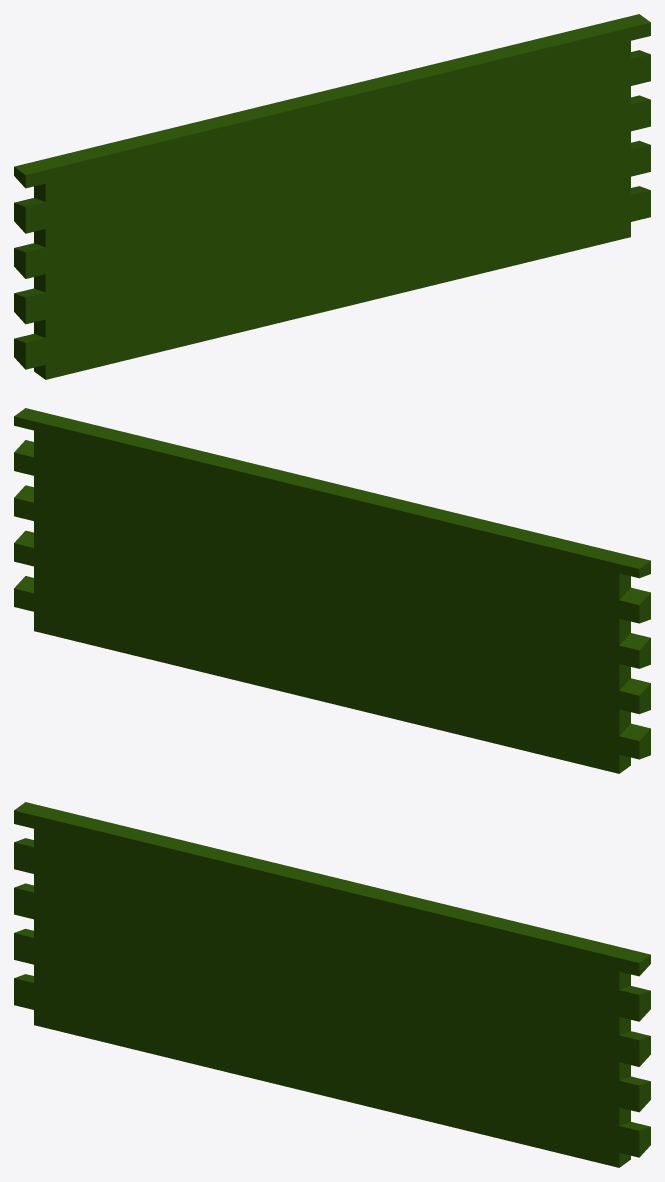
Rendered from original-29.obj.
3 renders of one model, top to bottom at view 1: azimuth 30°, elevation 25°; view 2: azimuth 150°, elevation 25°; view 3: azimuth 330°, elevation 25°, orthographic.
Parts seen in each view (by area): view 1: Façadecomplet_2_1/Façadecomplet_2/mesh31/mesh31-geometry#mesh31-; view 2: Façadecomplet_2_1/Façadecomplet_2/mesh31/mesh31-geometry#mesh31-; view 3: Façadecomplet_2_1/Façadecomplet_2/mesh31/mesh31-geometry#mesh31-.
Boxes of the visible parts, x1=… form: Façadecomplet_2_1/Façadecomplet_2/mesh31/mesh31-geometry#mesh31-: x1=14, y1=14, x2=650, y2=379; Façadecomplet_2_1/Façadecomplet_2/mesh31/mesh31-geometry#mesh31-: x1=14, y1=408, x2=650, y2=773; Façadecomplet_2_1/Façadecomplet_2/mesh31/mesh31-geometry#mesh31-: x1=14, y1=802, x2=650, y2=1167.
Size of the model in its own units: 1.07 by 0.3424 by 0.0342.
